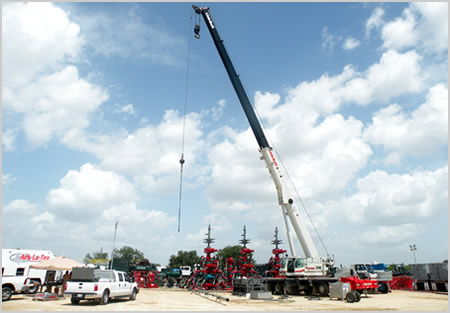crane: (195, 3, 395, 304)
